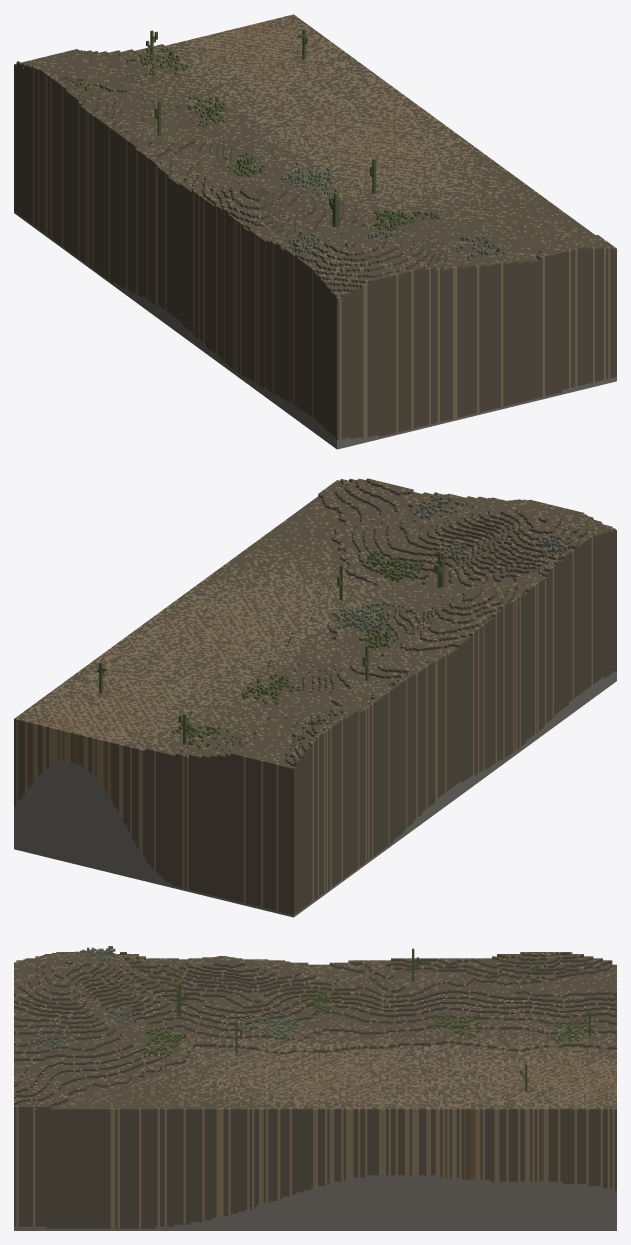
File: Combined Desert(2)-8-tile 8.obj
The picture shows the model from 3 angles, top to bottom: view 1: azimuth 30°, elevation 25°; view 2: azimuth 150°, elevation 25°; view 3: azimuth 270°, elevation 25°; orthographic projection. The views are drawn at different scales.
Parts seen in each view (by area): view 1: tile 8; view 2: tile 8; view 3: tile 8.
Part boxes in pixels (bbox=[...]): tile 8: bbox=[14, 14, 616, 449]; tile 8: bbox=[14, 478, 616, 917]; tile 8: bbox=[14, 946, 616, 1230].
Size of the model in its own units: 12.8 by 8 by 25.6.
1 material, 1 textured.
